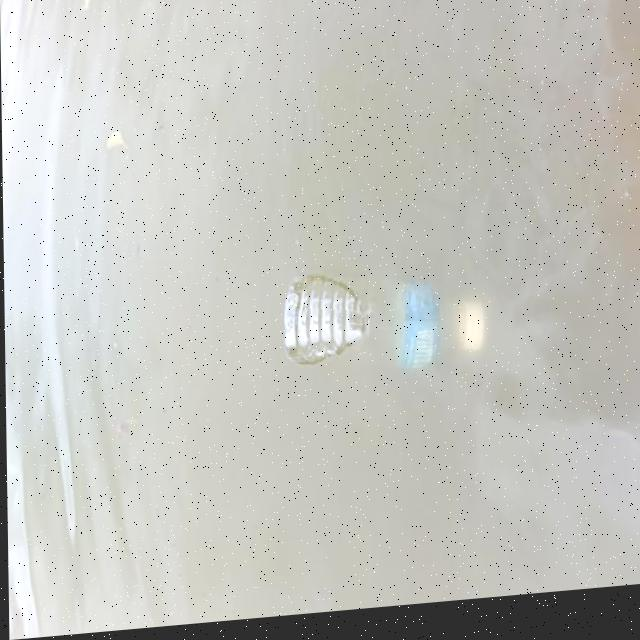waterbottle: (266, 272, 507, 415)
